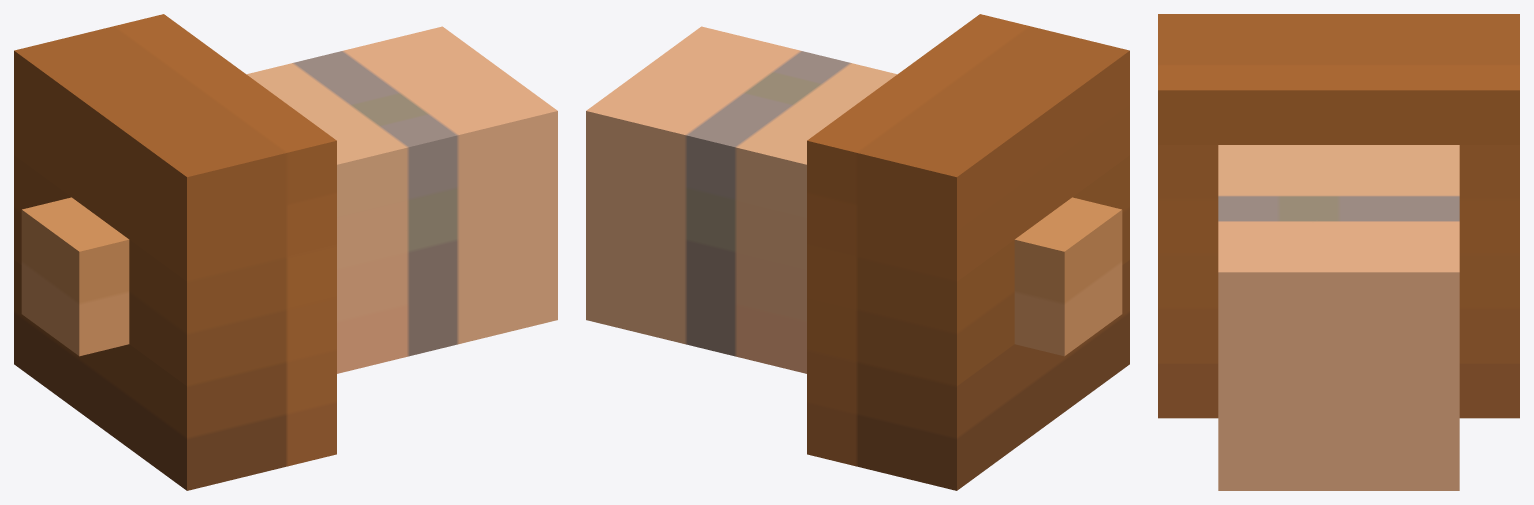
Rendered from Elbow041.fbx.
3 renders of one model, left to right at view 1: azimuth 30°, elevation 25°; view 2: azimuth 150°, elevation 25°; view 3: azimuth 270°, elevation 25°, orthographic. The views are drawn at different scales.
Visible parts, largest first — view 1: Elbow041; view 2: Elbow041; view 3: Elbow041.
Part boxes in pixels (<box>): Elbow041: <box>14,14,557,490</box>; Elbow041: <box>586,14,1129,490</box>; Elbow041: <box>1158,14,1519,490</box>.
Size of the model in its own units: 9 by 6 by 6.
